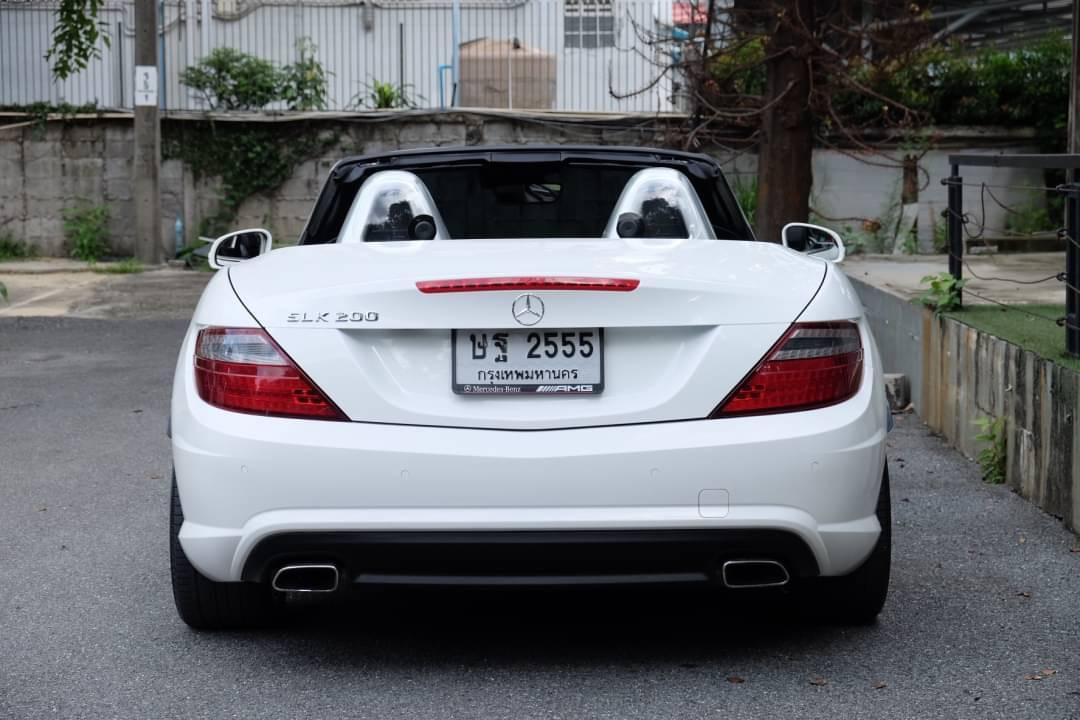license-plate: (440, 319, 619, 401)
